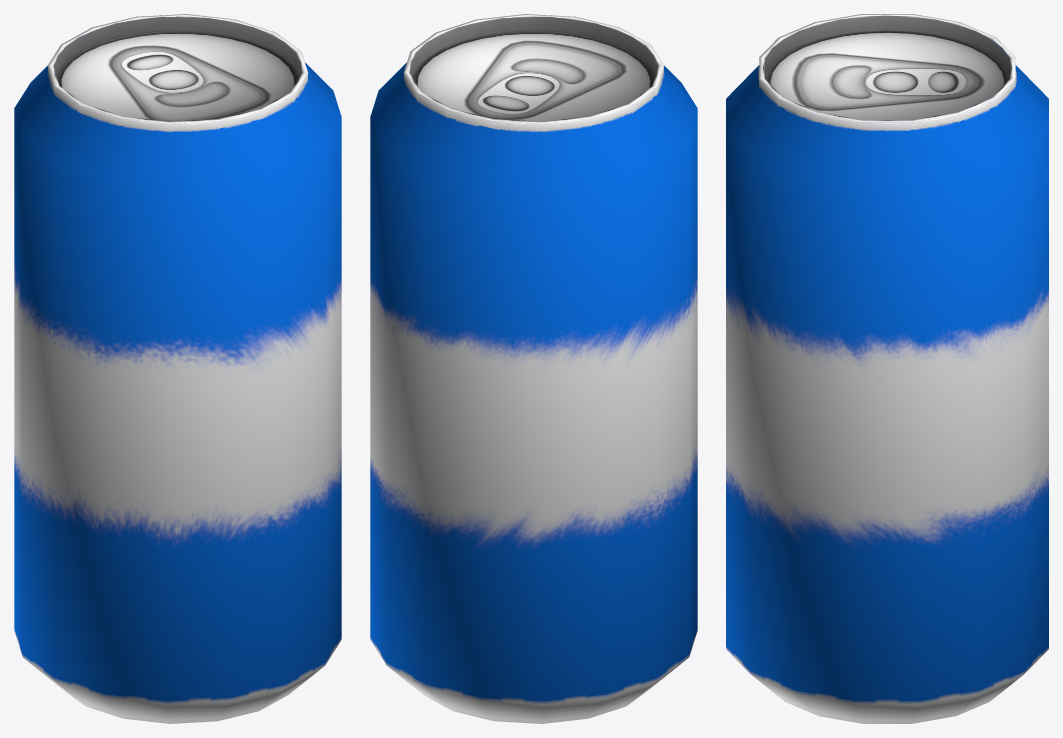
File: sodablue.glb
3 renders of one model, left to right at view 1: azimuth 30°, elevation 25°; view 2: azimuth 150°, elevation 25°; view 3: azimuth 270°, elevation 25°, orthographic.
Parts seen in each view (by area): view 1: sodablue; view 2: sodablue; view 3: sodablue.
Part boxes in pixels (left/top/right/bottom): sodablue: left=14, top=14, right=341, bottom=723; sodablue: left=370, top=14, right=697, bottom=723; sodablue: left=726, top=14, right=1048, bottom=723.
Bounding box in the file's own units: 0.2196 × 0.4538 × 0.2196.
Materials: 1 (1 with a texture image).
